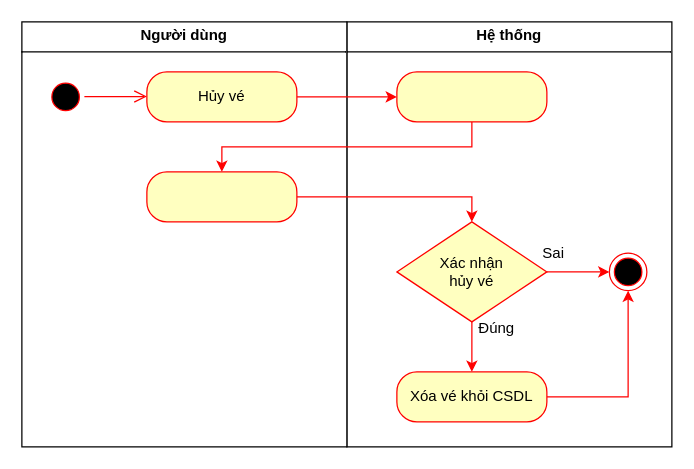
Some shapes in this 694 by 469 pixel diagram are drawn without their labels. Here are the shapes that lost their labels. From the top down, the box of each, then its label:
(396, 71, 547, 122): Hiển thị danh sách vé đã đặt
(146, 171, 297, 222): Chọn vé muốn hủy
